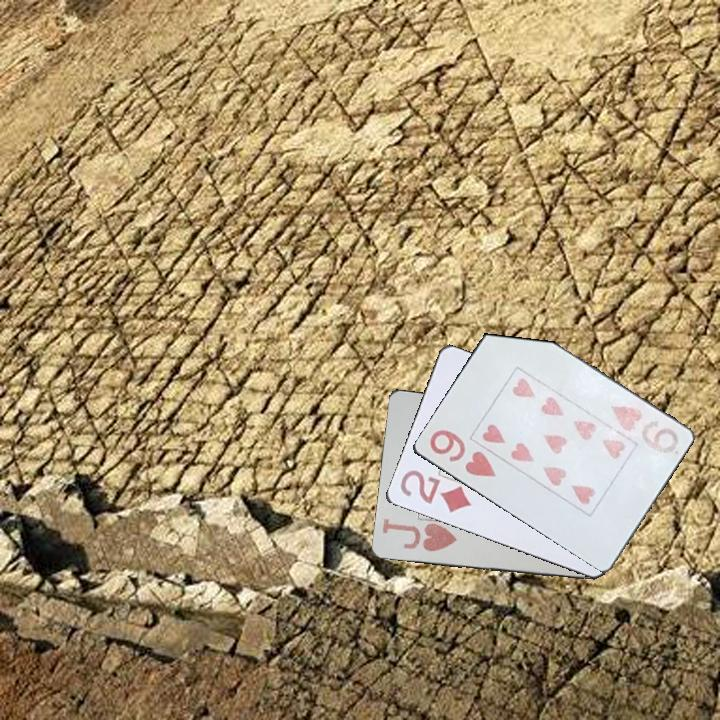2d: (396, 466, 475, 516)
9h: (606, 398, 681, 457), (425, 426, 499, 483)
Jh: (378, 516, 459, 555)
